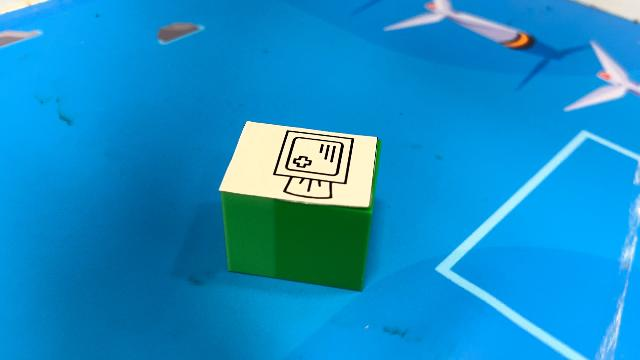napkin: (217, 117, 383, 292)
